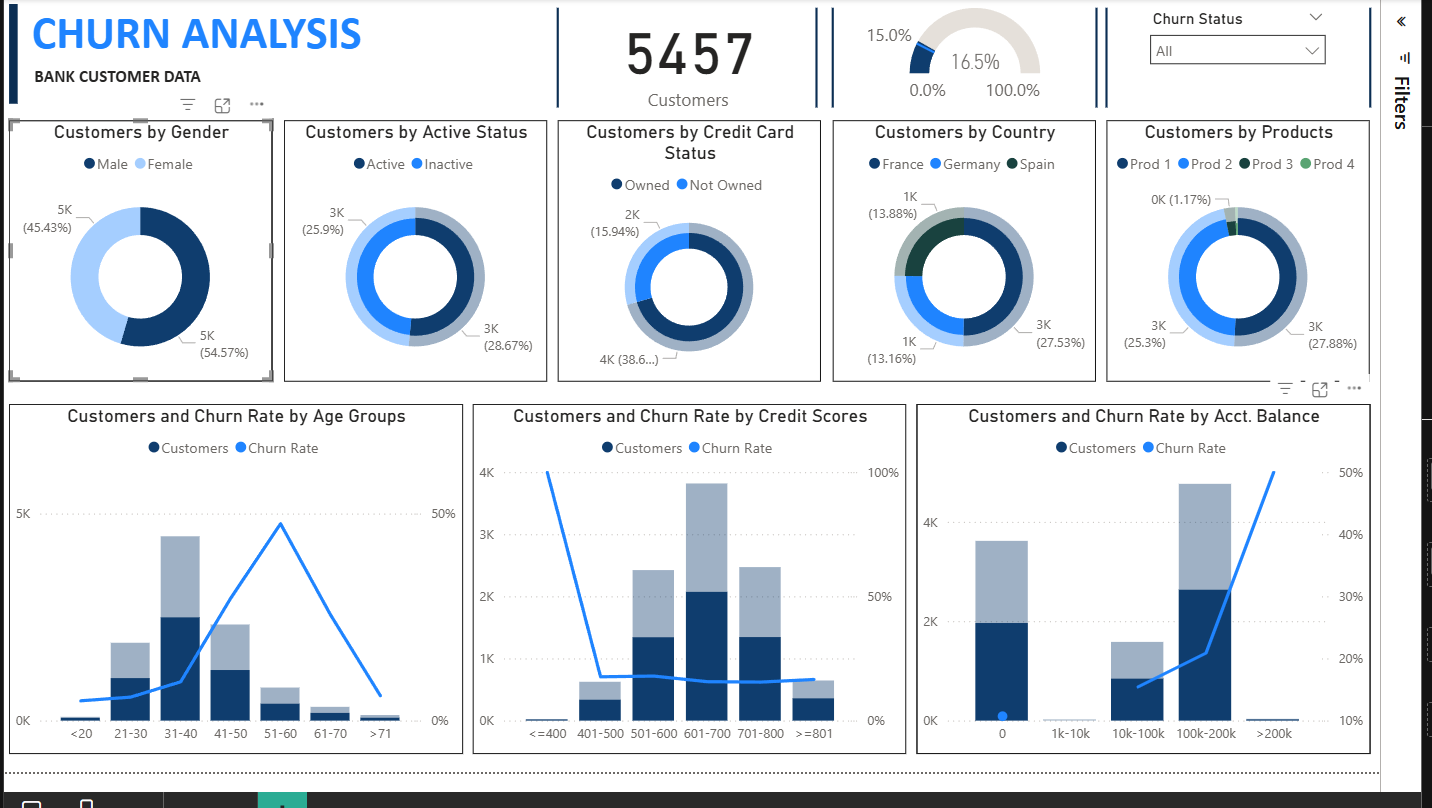

This screenshot's page, from the dashboard's own definition file:
{"tool":"powerbi","page":{"name":"Page 1","canvas":[1280,720],"ordinal":0},"visuals":[{"type":"card","fields":{"Values":["Customer Data.Customers"]},"box":[554.7,3.5,164,103.5],"z":0},{"type":"donutChart","fields":{"Category":["Customer Data.Gender"],"Y":["Customer Data.Customers"]},"box":[4.7,112.3,245,243],"z":1000},{"type":"donutChart","fields":{"Category":["Customer Data.Active Status"],"Y":["Customer Data.Customers"]},"box":[259.9,112.3,245,243],"z":2000},{"type":"donutChart","fields":{"Category":["Customer Data.Credit Card Status"],"Y":["Customer Data.Customers"]},"box":[515.1,112.3,245,243],"z":3000},{"type":"donutChart","fields":{"Y":["Customer Data.Customers"],"Category":["Customer Data.Country"]},"box":[770.4,112.3,245,243],"z":4000},{"type":"donutChart","fields":{"Category":["Customer Data.Products"],"Y":["Customer Data.Customers"]},"box":[1025.6,112.3,245,243],"z":5000},{"type":"lineStackedColumnComboChart","fields":{"Category":["Age Groups.Age Groups"],"Y":["Customer Data.Customers"],"Y2":["Customer Data.Churn Rate"]},"box":[4.7,376.7,422.1,325.6],"z":6000},{"type":"lineStackedColumnComboChart","fields":{"Y":["Customer Data.Customers"],"Y2":["Customer Data.Churn Rate"],"Category":["Credit Score Groups.Credit Scores"]},"box":[436,376.7,403.5,325.6],"z":7000},{"type":"lineStackedColumnComboChart","fields":{"Y":["Customer Data.Customers"],"Y2":["Customer Data.Churn Rate"],"Category":["Acct Balance Groups.Acct. Balance"]},"box":[848.8,376.7,422.1,325.6],"z":8000},{"type":"slicer","fields":{"Values":["Customer Data.Churn Status"]},"box":[1055.8,4.7,183.7,102.3],"z":9000},{"type":"gauge","fields":{"MaxValue":["Max(Customer Data.Max Churn Rate)"],"MinValue":["Min(Customer Data.Min Churn Rate)"],"Y":["Customer Data.Churn Rate"],"TargetValue":["Max(Customer Data.Target Churn Rate)"]},"box":[786,3.5,189.5,102.3],"z":10000},{"type":"textbox","box":[21,0,327.9,67.4],"z":11000},{"type":"textbox","box":[23.3,57,174.4,40.7],"z":12000},{"type":"shape","box":[500,8.1,30.2,93],"z":13000},{"type":"shape","box":[740.7,8.1,30.2,93],"z":14000},{"type":"shape","box":[755.8,8.1,30.2,93],"z":14001},{"type":"shape","box":[1001.2,8.1,30.2,93],"z":14002},{"type":"shape","box":[1010.5,8.1,30.2,93],"z":14003},{"type":"shape","box":[1261.6,8.1,18.6,93],"z":14004},{"type":"shape","box":[0,0,12.8,107],"z":14005}]}

Visuals, with their boxes in screenshot pixels (x1, y1, x2, y2):
card - Customer Data.Customers: (590,7,765,118)
donutChart - Customer Data.Gender x Customer Data.Customers: (5,123,266,382)
donutChart - Customer Data.Active Status x Customer Data.Customers: (277,123,537,382)
donutChart - Customer Data.Credit Card Status x Customer Data.Customers: (548,123,809,382)
donutChart - Customer Data.Customers x Customer Data.Country: (820,123,1081,382)
donutChart - Customer Data.Products x Customer Data.Customers: (1091,123,1352,382)
lineStackedColumnComboChart - Age Groups.Age Groups x Customer Data.Customers: (5,405,454,751)
lineStackedColumnComboChart - Customer Data.Customers x Customer Data.Churn Rate: (464,405,893,751)
lineStackedColumnComboChart - Customer Data.Customers x Customer Data.Churn Rate: (903,405,1352,751)
slicer - Customer Data.Churn Status: (1124,9,1319,118)
gauge - Max(Customer Data.Max Churn Rate) x Min(Customer Data.Min Churn Rate): (836,7,1038,116)
textbox: (22,4,371,75)
textbox: (25,64,210,108)
shape: (532,12,564,111)
shape: (788,12,820,111)
shape: (804,12,836,111)
shape: (1065,12,1098,111)
shape: (1075,12,1107,111)
shape: (1343,12,1362,111)
shape: (0,4,14,118)
